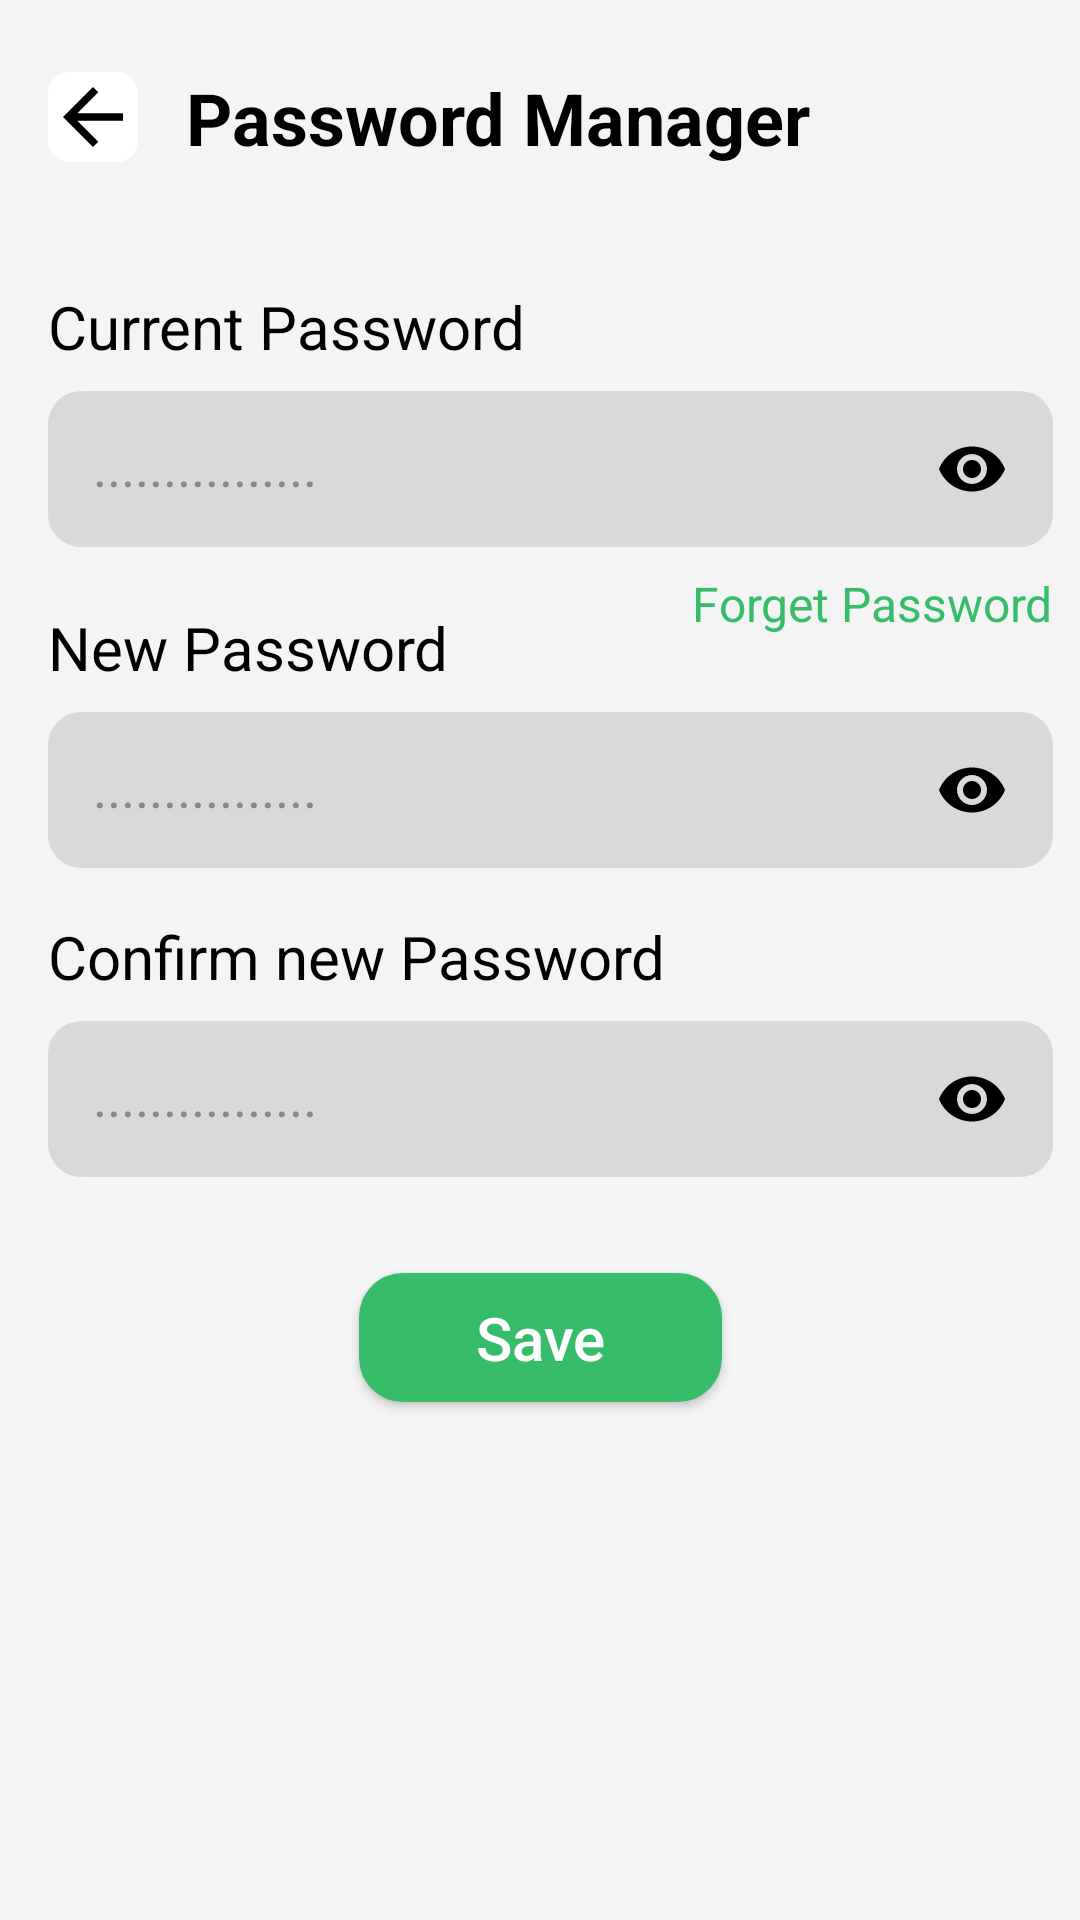

Locate icon controls on the screen. Image size 1080×1920, boxes as (x1, y1, x2, y2).
back: (48, 72, 138, 162)
